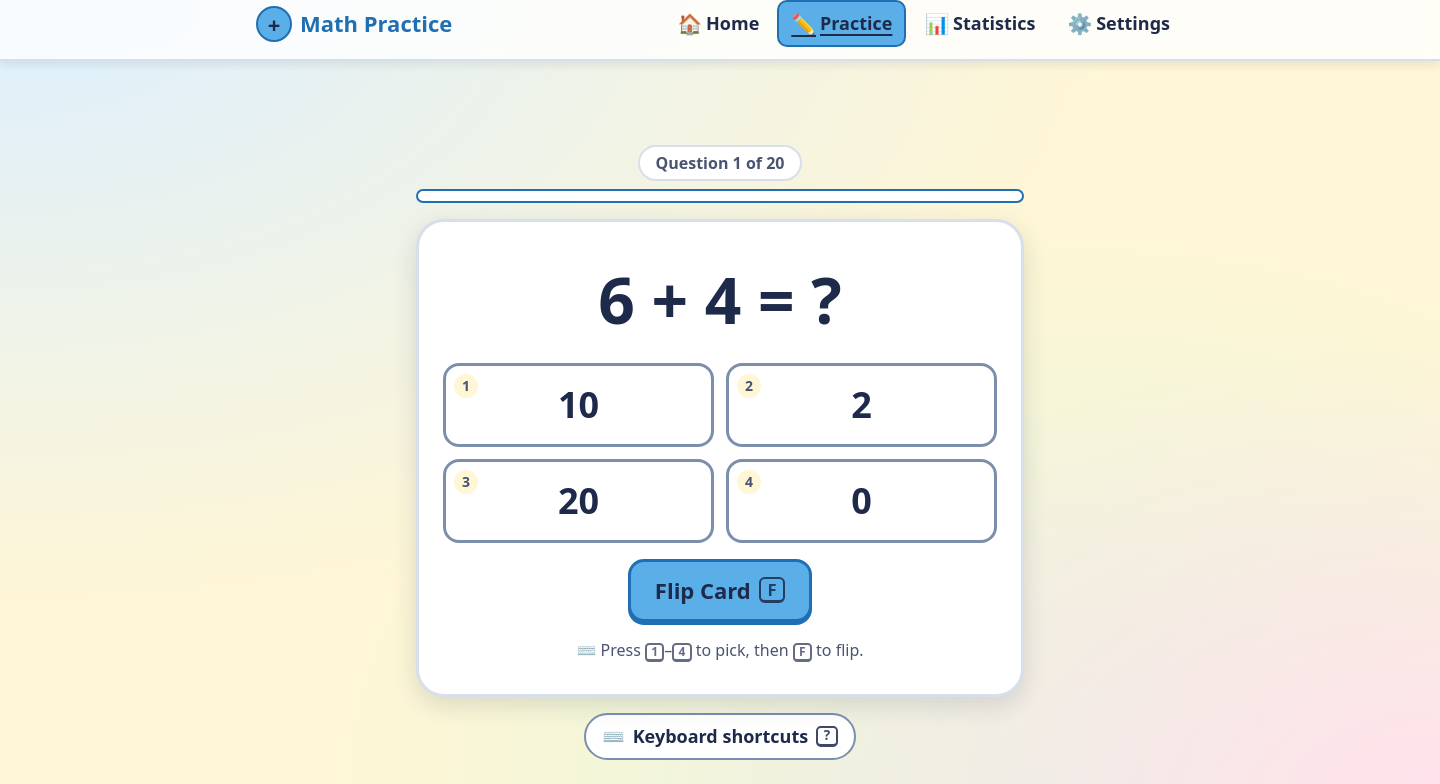
Scenario: PracticeSessionPage › marks a fixed-length session that ends early
The width and height of the screenshot is (1440, 784).
Click the button named "Choice": x=578, y=405 left=443, top=363, right=714, bottom=447
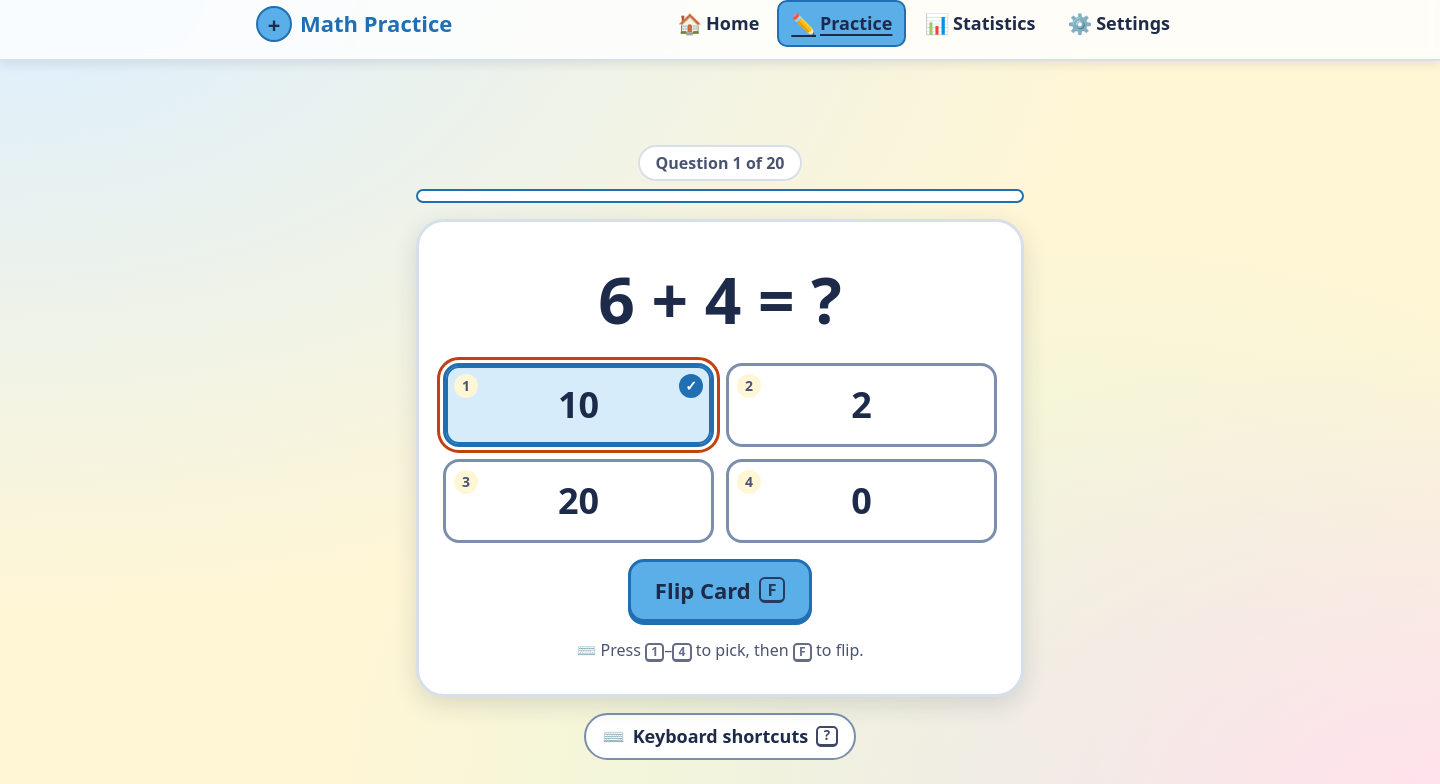
Click the button "Flip Card F": x=720, y=590 left=628, top=559, right=812, bottom=622
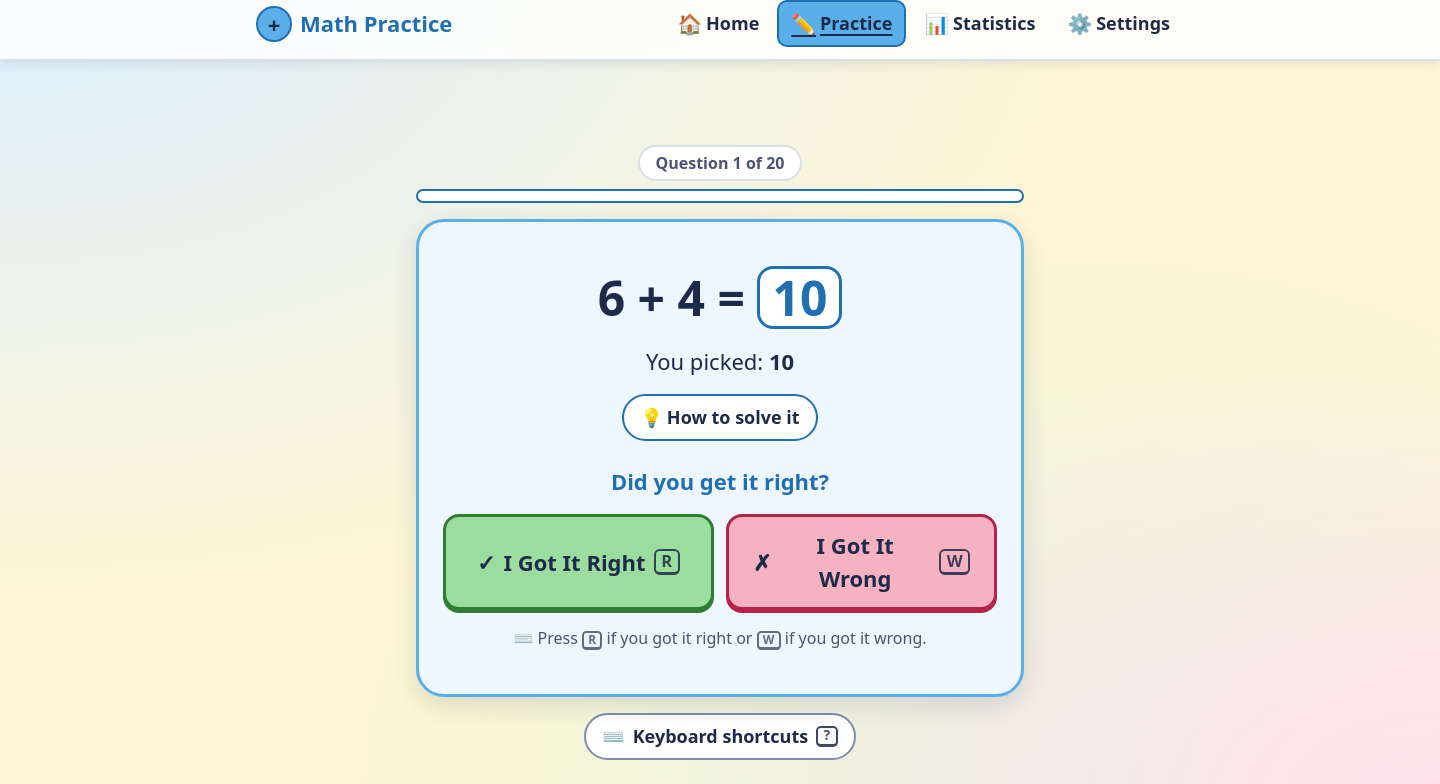
Click the button "✓ I Got It Right R": x=578, y=562 left=443, top=514, right=714, bottom=610
(page scrolled)
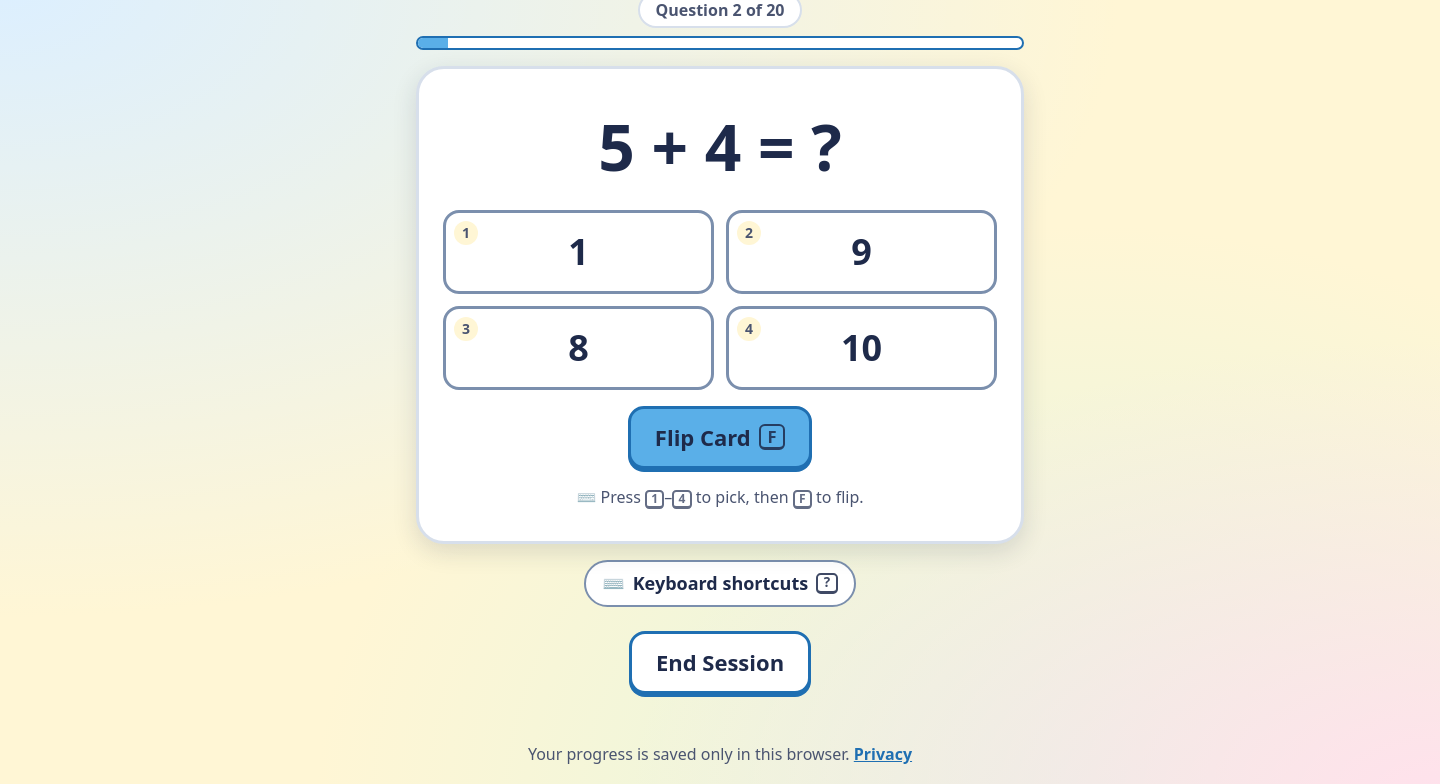
Click the button "End Session": x=720, y=662 left=629, top=631, right=811, bottom=694
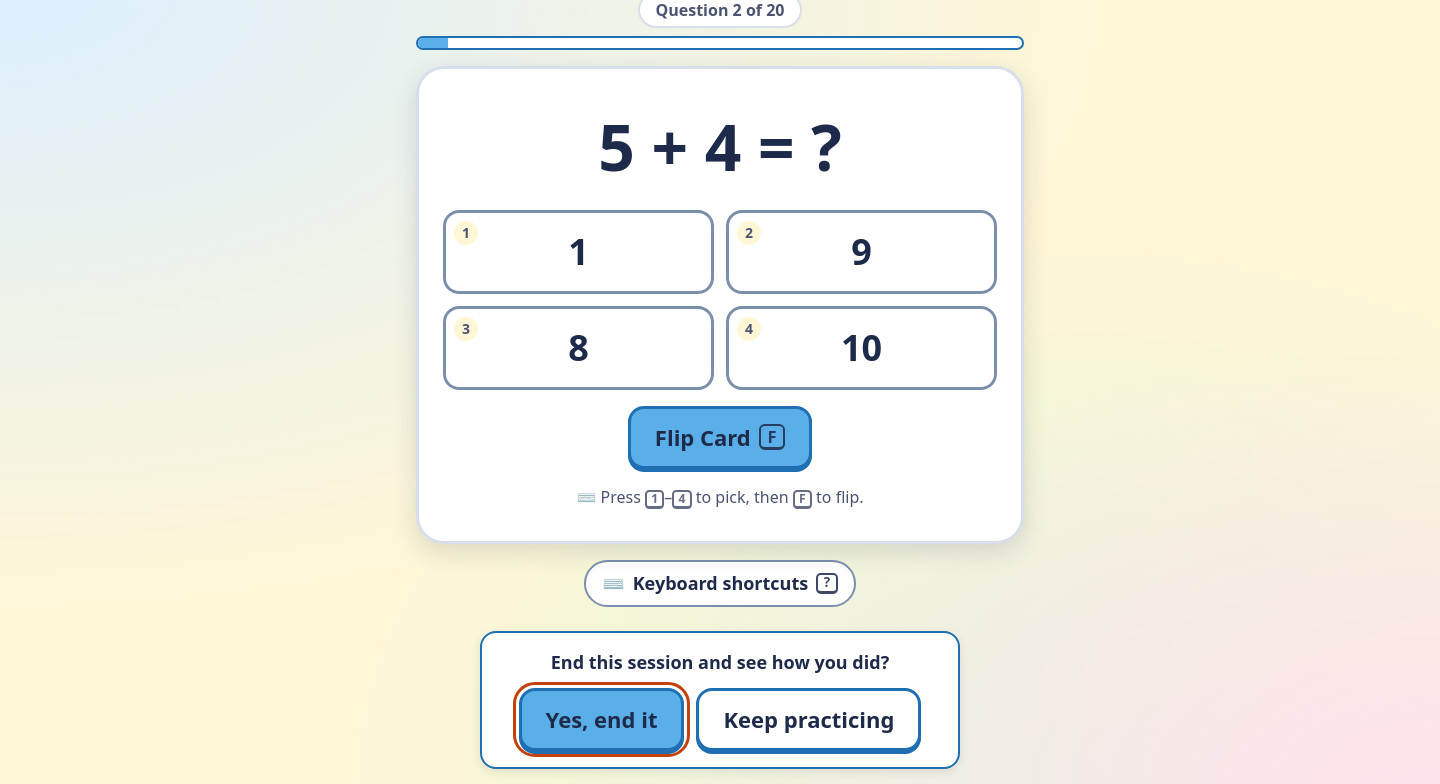
Click the button "Yes, end it": x=601, y=719 left=518, top=688, right=684, bottom=751
(page scrolled)
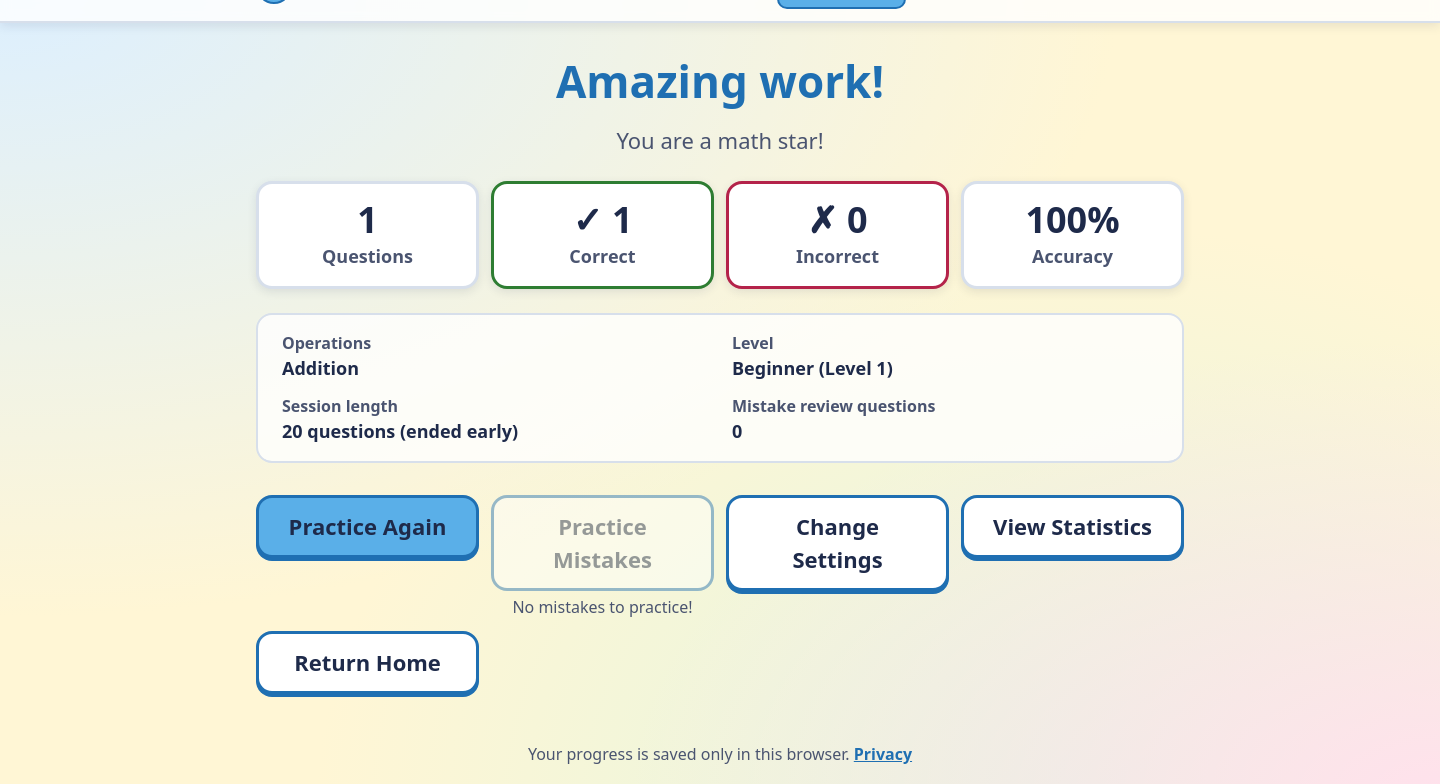
Expected: the text "20 questions (ended early)" is shown, left=282, top=419, right=518, bottom=443
